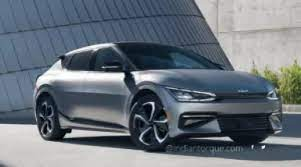Honda Ioniq: (32, 39, 286, 154)
